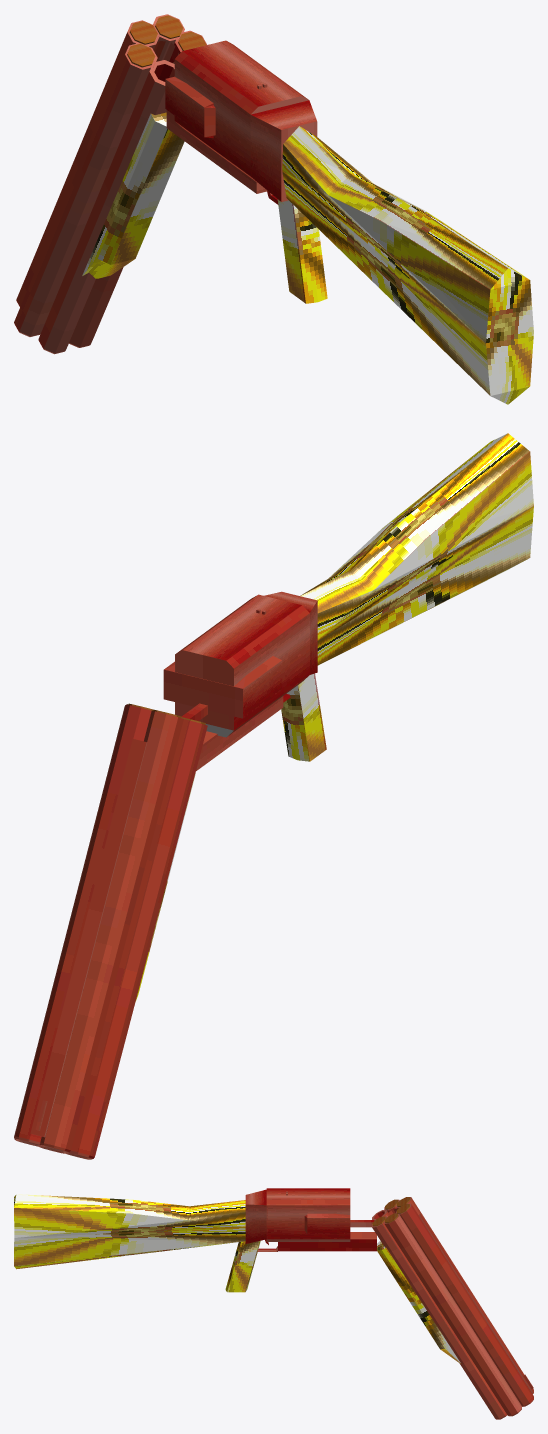
File: six_barrels_shotgun_reloading_5.obj
3 views of the same model, one above another, from view 1: azimuth 30°, elevation 25°; view 2: azimuth 150°, elevation 25°; view 3: azimuth 270°, elevation 25° (orthographic). The views are drawn at different scales.
Visible parts, largest first — view 1: Torus.009_Torus.008, Torus.000, Torus.001, Torus.003, Torus.002; view 2: Torus.009_Torus.008, Torus.000; view 3: Torus.009_Torus.008, Torus.000.
Part boxes in pixels (x1,y1,x2,y2): Torus.009_Torus.008: (165, 40, 533, 404); Torus.000: (14, 14, 206, 354); Torus.001: (155, 15, 183, 38); Torus.003: (127, 43, 155, 67); Torus.002: (129, 21, 157, 44); Torus.009_Torus.008: (163, 433, 533, 770); Torus.000: (14, 704, 207, 1159); Torus.009_Torus.008: (14, 1188, 376, 1292); Torus.000: (372, 1197, 533, 1419).
Bounding box in the file's own units: 0.6336 × 3.09 × 6.56.
